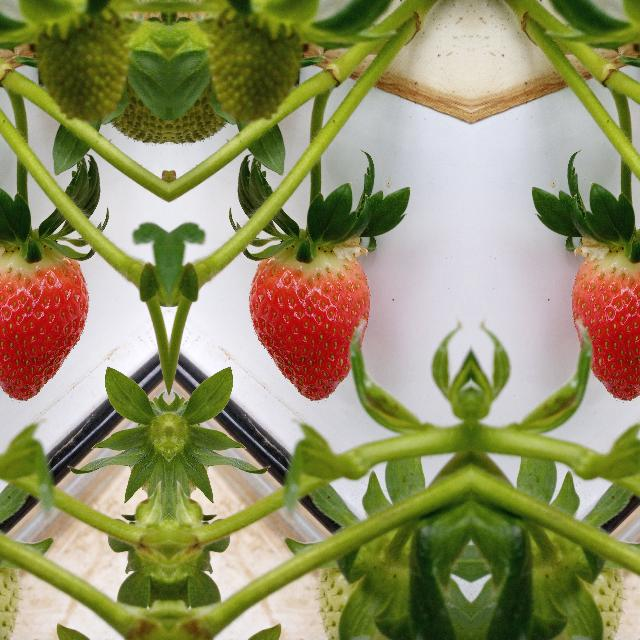Health_100: (246, 242, 370, 402), (0, 242, 90, 402), (571, 242, 640, 402)
Health_25: (204, 1, 304, 119), (32, 1, 132, 119)
